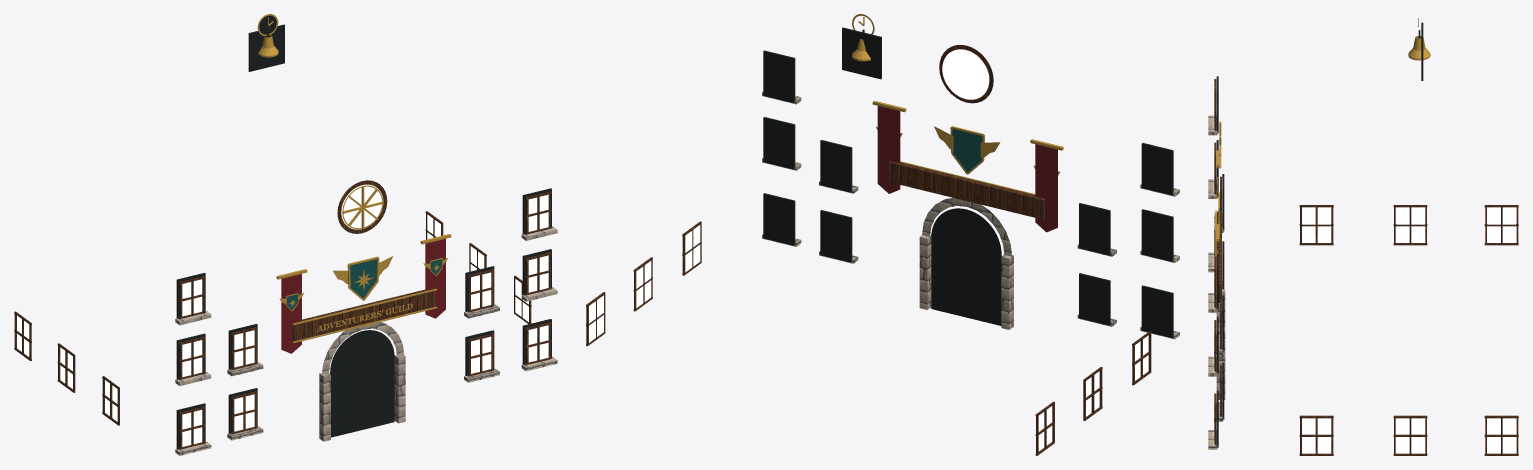
Rendered from SM_Guild_FacadeOpen_Detailed.fbx.
The picture shows the model from 3 angles, left to right: view 1: azimuth 30°, elevation 25°; view 2: azimuth 150°, elevation 25°; view 3: azimuth 270°, elevation 25°; orthographic projection. The views are drawn at different scales.
Visible parts, largest first — view 1: DoorwayDarkOpening, GuildSign_1.001, HangingBanner.004, HangingBanner.005, RoseGlass.001, BellOpening_1.001, GuildCrest_Shield.001, TowerWindow_Glow_1.007, TowerWindow_Glow_1.009, WingWindow_Glow_1.004, TowerWindow_Glow_1.011, WingWindow_Glow_1.005 (+5 smaller); view 2: DoorwayDarkOpening, GuildSign_3.001, RoseGlass.001, HangingBanner.005, HangingBanner.004, TowerWindow_Recess_3.007, TowerWindow_Recess_3.008, TowerWindow_Recess_3.006, BellOpening_3.001, TowerWindow_Recess_3.011, WingWindow_Recess_3.005, TowerWindow_Recess_3.010 (+7 smaller); view 3: SideWindow.007, SideWindow.006, SideWindow.008, SideWindow.010, SideWindow.009, SideWindow.011, DoorJamb_2.003.
Boxes of the visible parts, left/top/right/bottom form: DoorwayDarkOpening: left=330, top=330, right=394, bottom=437; GuildSign_1.001: left=293, top=290, right=435, bottom=341; HangingBanner.004: left=281, top=274, right=301, bottom=353; HangingBanner.005: left=425, top=238, right=445, bottom=318; RoseGlass.001: left=341, top=184, right=383, bottom=229; BellOpening_1.001: left=249, top=25, right=284, bottom=71; GuildCrest_Shield.001: left=350, top=259, right=376, bottom=298; TowerWindow_Glow_1.007: left=182, top=340, right=202, bottom=377; TowerWindow_Glow_1.009: left=528, top=325, right=548, bottom=362; WingWindow_Glow_1.004: left=234, top=394, right=254, bottom=431; TowerWindow_Glow_1.011: left=528, top=194, right=548, bottom=231; WingWindow_Glow_1.005: left=234, top=330, right=254, bottom=367; DoorwayDarkOpening: left=931, top=208, right=1001, bottom=325; GuildSign_3.001: left=888, top=162, right=1043, bottom=219; RoseGlass.001: left=942, top=49, right=989, bottom=99; HangingBanner.005: left=877, top=106, right=900, bottom=193; HangingBanner.004: left=1035, top=144, right=1057, bottom=232; TowerWindow_Recess_3.007: left=1141, top=210, right=1172, bottom=261; TowerWindow_Recess_3.008: left=1141, top=143, right=1172, bottom=195; TowerWindow_Recess_3.006: left=1141, top=286, right=1172, bottom=338; BellOpening_3.001: left=842, top=28, right=880, bottom=79; TowerWindow_Recess_3.011: left=763, top=51, right=793, bottom=102; WingWindow_Recess_3.005: left=1079, top=204, right=1109, bottom=255; TowerWindow_Recess_3.010: left=763, top=117, right=793, bottom=169; SideWindow.007: left=1396, top=207, right=1424, bottom=242; SideWindow.006: left=1302, top=207, right=1330, bottom=242; SideWindow.008: left=1487, top=207, right=1515, bottom=242; SideWindow.010: left=1396, top=418, right=1424, bottom=453; SideWindow.009: left=1302, top=418, right=1330, bottom=453; SideWindow.011: left=1487, top=418, right=1515, bottom=453; DoorJamb_2.003: left=1216, top=331, right=1225, bottom=399.
Bounding box in the file's own units: 1920 × 1191 × 1540.
8 materials, 2 textured.
